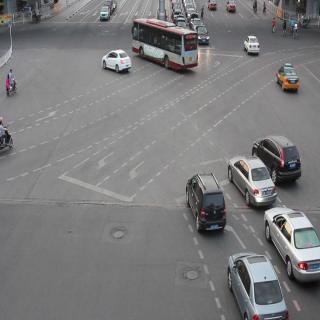BigCar: (132, 18, 198, 73)
Car: (227, 252, 289, 320), (266, 208, 320, 279), (252, 137, 304, 186), (187, 174, 228, 236), (229, 154, 275, 209), (274, 59, 301, 97), (100, 47, 130, 76), (243, 33, 260, 55), (196, 24, 213, 46), (207, 1, 222, 14), (99, 7, 112, 20), (224, 0, 238, 12)
